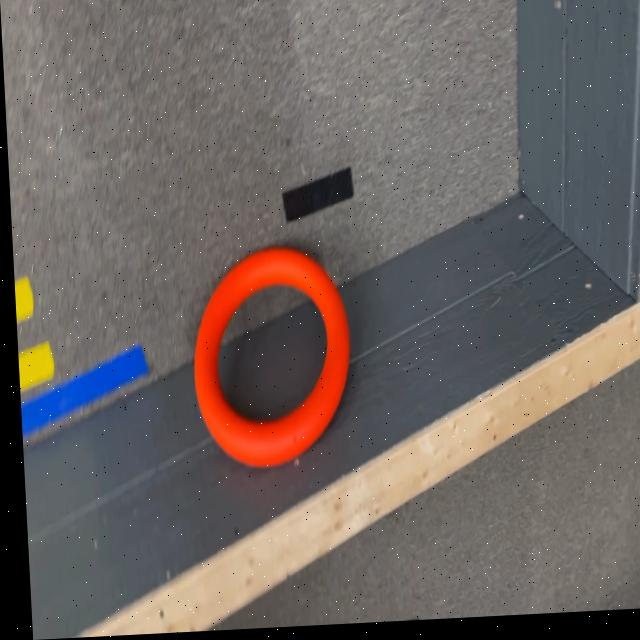note: (185, 248, 351, 472)
